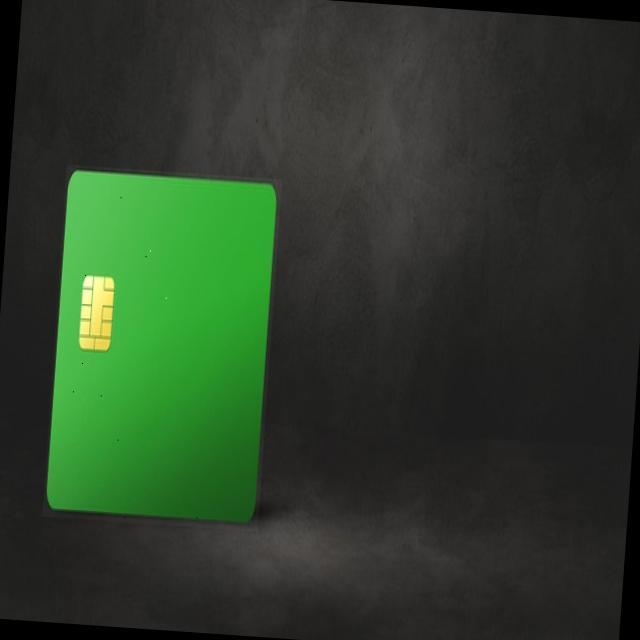payment_card: (44, 167, 278, 524)
